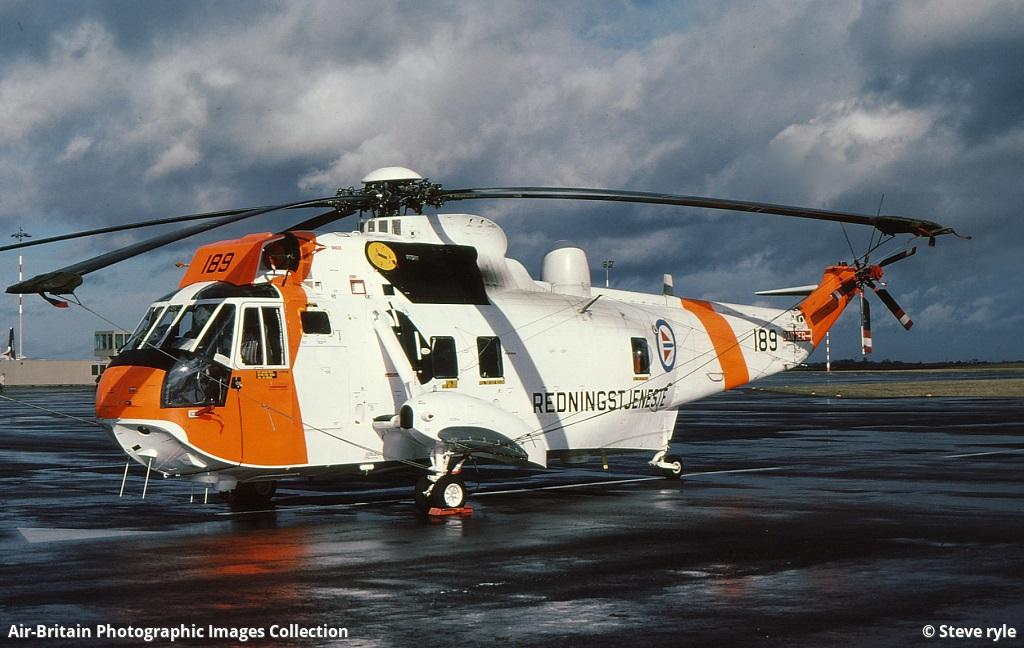Sea King: (75, 161, 944, 525)
